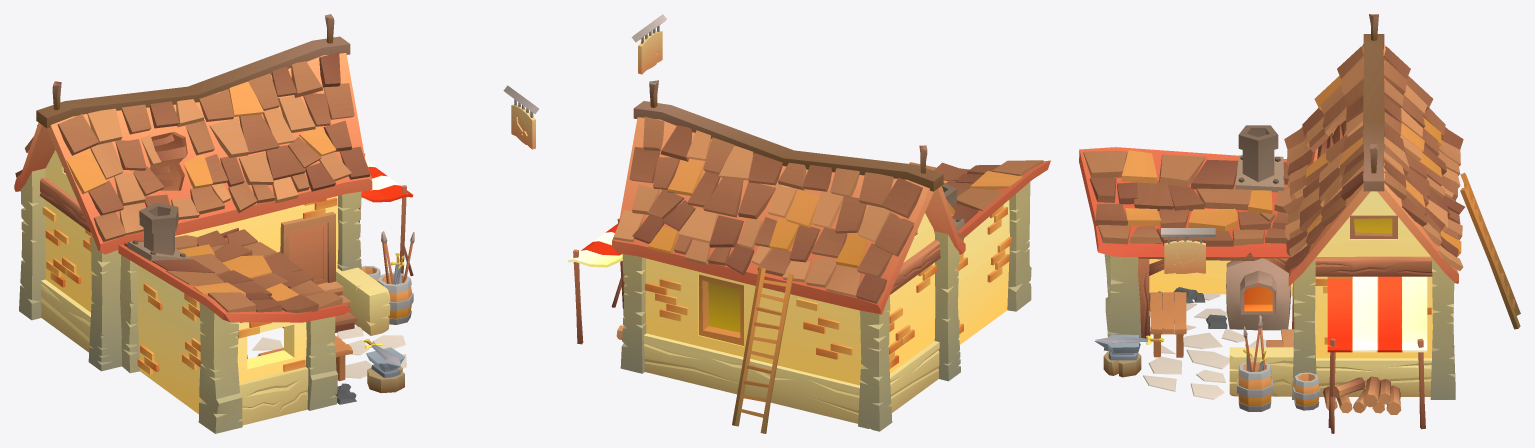
Rendered from forge_version2.glb.
3 renders of one model, left to right at view 1: azimuth 30°, elevation 25°; view 2: azimuth 150°, elevation 25°; view 3: azimuth 270°, elevation 25°, orthographic.
Visible parts, largest first — view 1: Cube_0, GLTF_created_0; view 2: Cube_0, GLTF_created_0; view 3: Cube_0, GLTF_created_0.
Part boxes in pixels (<box>): Cube_0: <box>14,14,413,433</box>; GLTF_created_0: <box>503,85,538,149</box>; Cube_0: <box>568,80,1050,433</box>; GLTF_created_0: <box>631,14,666,74</box>; Cube_0: <box>1079,14,1520,433</box>; GLTF_created_0: <box>1161,228,1215,273</box>.
Bounding box in the file's own units: 11.52 × 7.33 × 11.37.
Materials: 1 (1 with a texture image).
